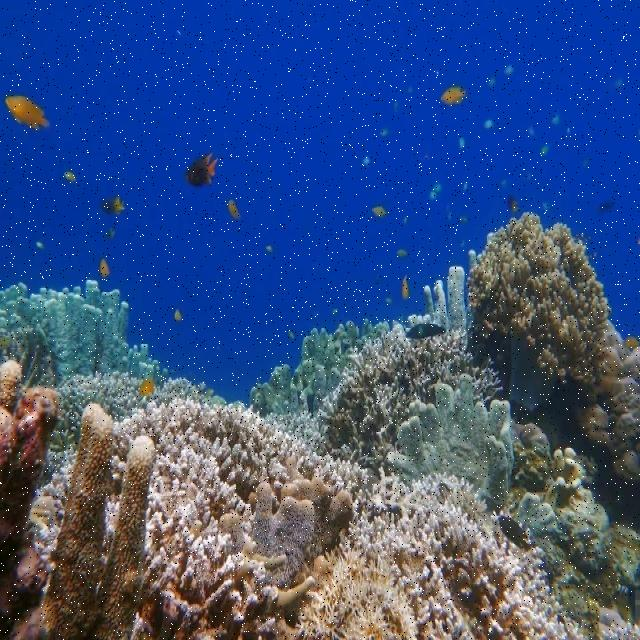fish: (498, 516, 531, 550), (186, 153, 219, 186), (408, 321, 445, 340)
reefs: (107, 399, 583, 639), (0, 361, 153, 640), (316, 326, 500, 481), (469, 216, 611, 384), (31, 373, 141, 562), (389, 371, 513, 507), (0, 280, 164, 379), (252, 456, 353, 606), (249, 319, 389, 415), (302, 551, 414, 639)
